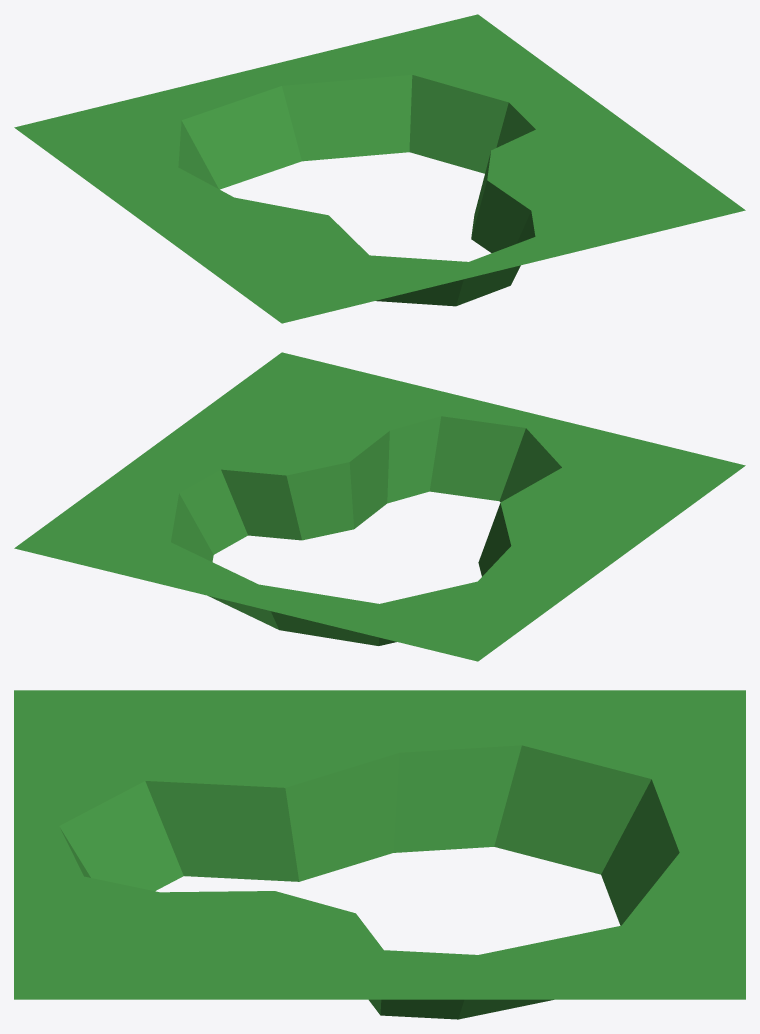
Rendered from pond_001.fbx.
3 views of the same model, one above another, from view 1: azimuth 30°, elevation 25°; view 2: azimuth 150°, elevation 25°; view 3: azimuth 270°, elevation 25° (orthographic). The views are drawn at different scales.
Parts seen in each view (by area): view 1: pond.001; view 2: pond.001; view 3: pond.001.
Boxes of the visible parts, x1,y1,x2,y2 form: pond.001: (14, 14, 745, 323); pond.001: (14, 352, 745, 661); pond.001: (14, 690, 745, 1019).
Size of the model in its own units: 800 by 99.73 by 800.
